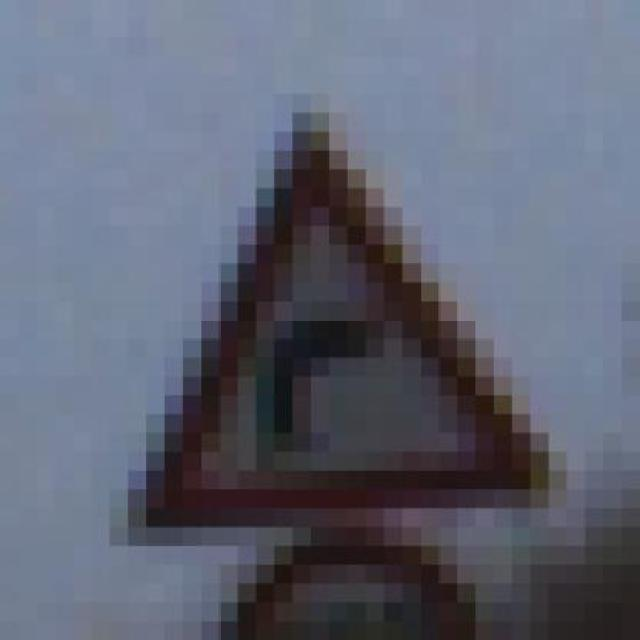Dangerous Rright Curve Ahead: (73, 94, 585, 546)
